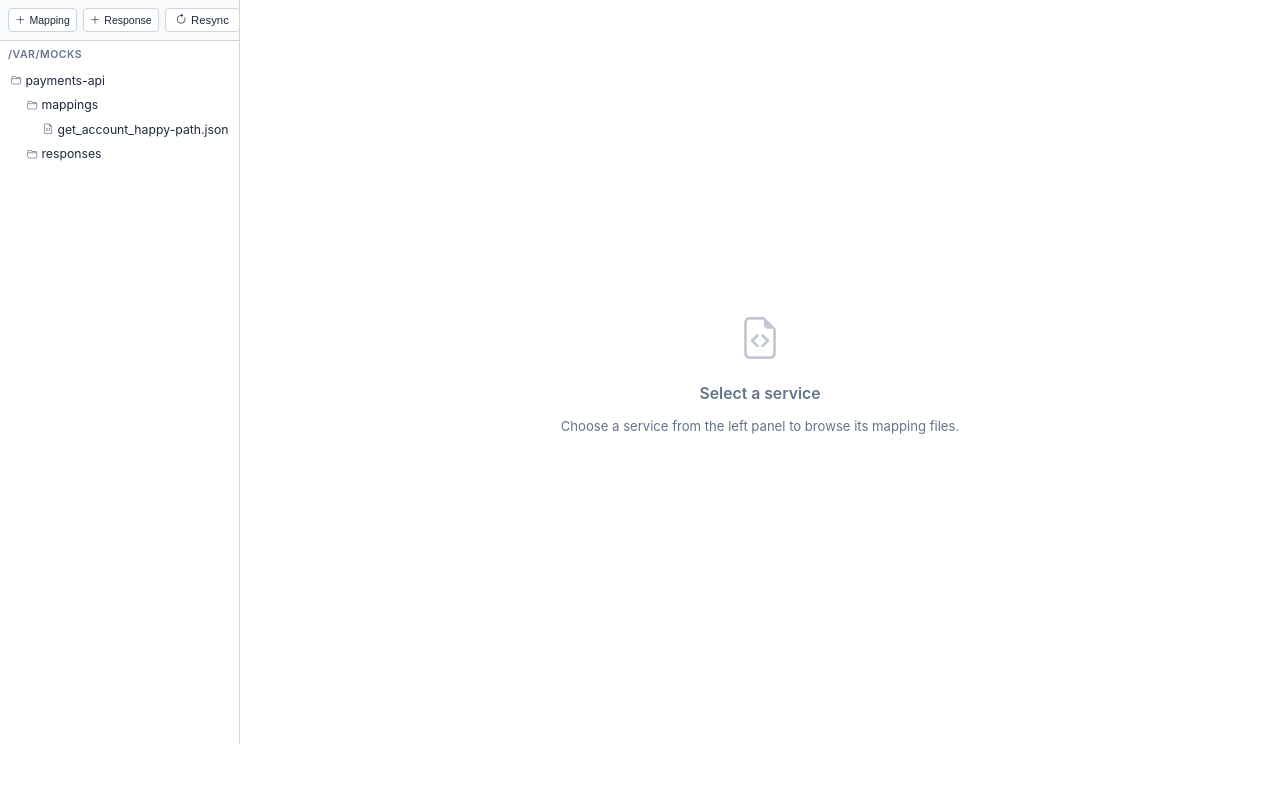
Test case: Story 4.2 — MappingsPage: Create files › AC-13: New Mapping when no service is selected shows service-selection dropdown before naming modal
// Click New Mapping WITHOUT selecting a service first
Click the button with test id "mappings-btn-new-mapping". click: {"x": 42, "y": 20}
box: x1=8 y1=8 x2=77 y2=32
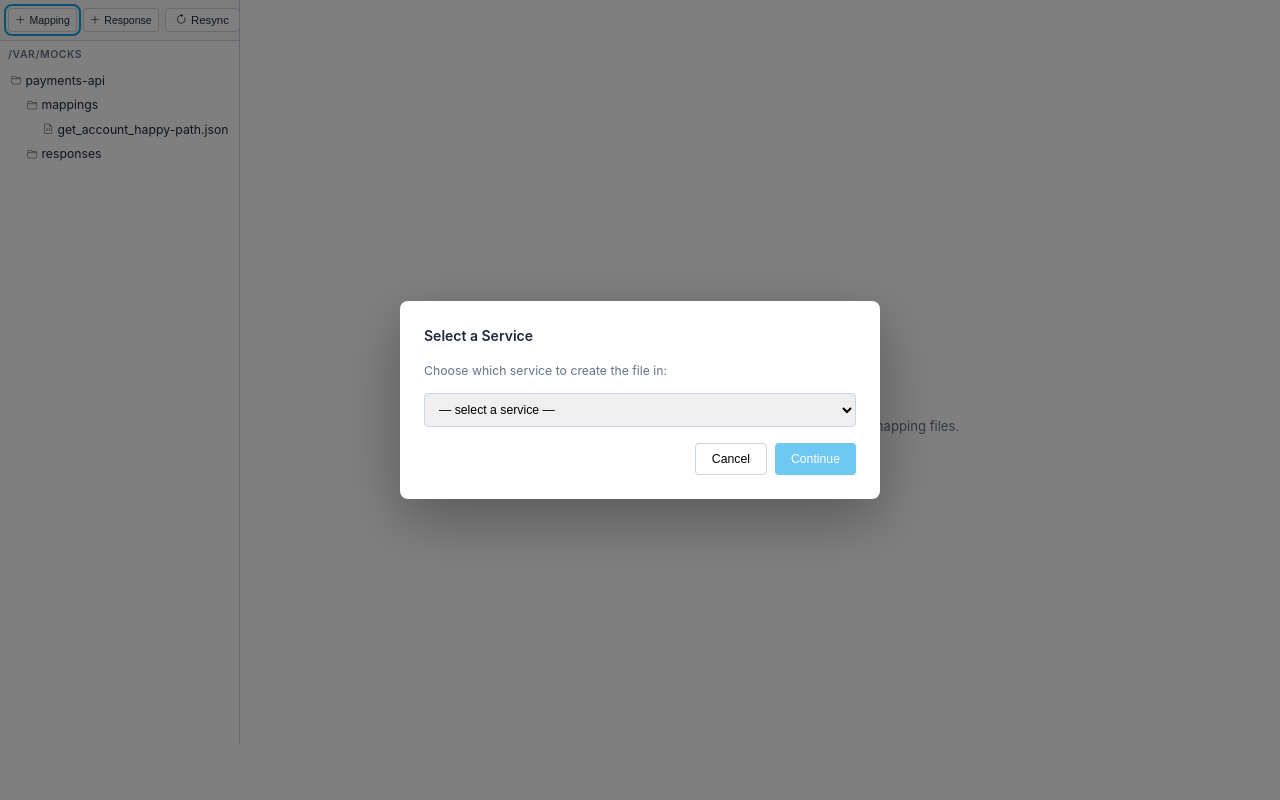
Check: the dropdown is shown, box x1=424 y1=393 x2=856 y2=427
